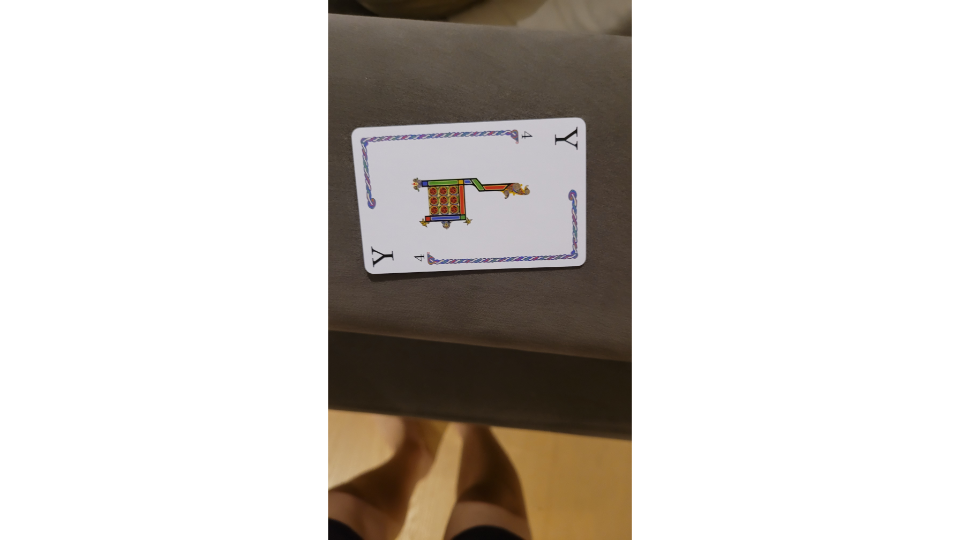Y: (349, 114, 590, 276)
